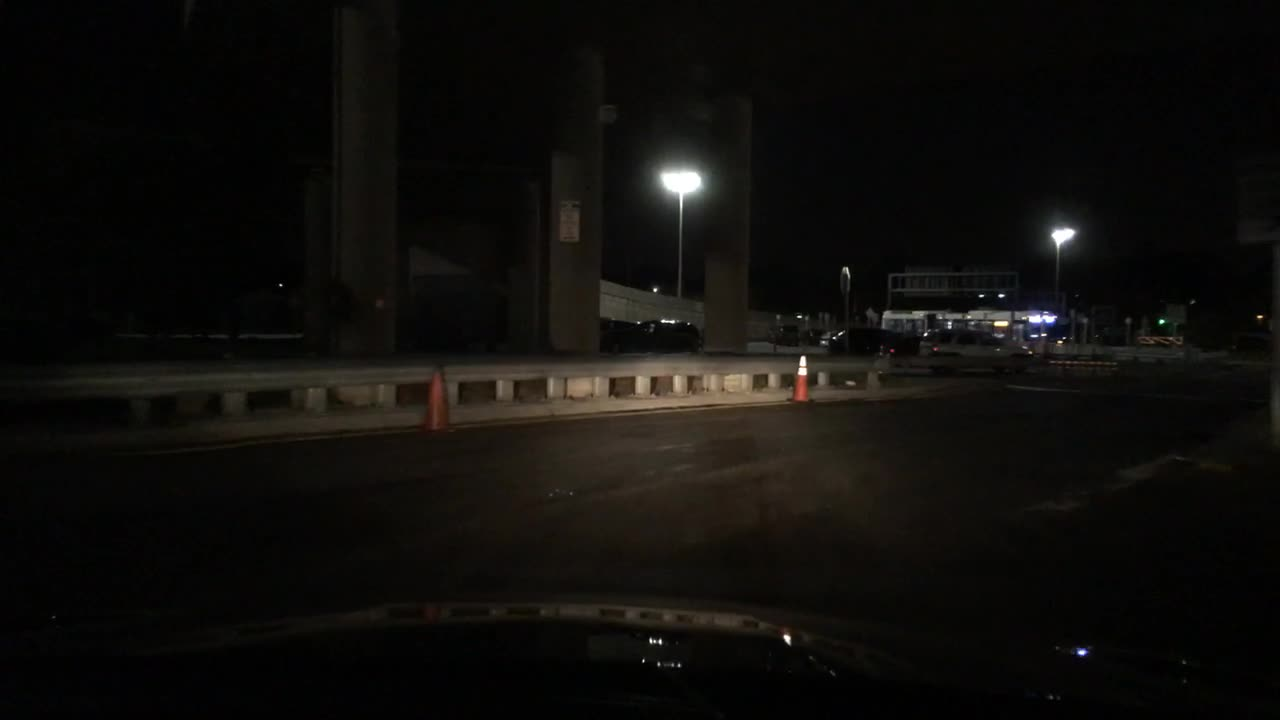car: (925, 326, 1035, 375), (595, 316, 703, 358), (821, 329, 913, 364), (763, 323, 822, 344)
traffic light: (1155, 318, 1165, 328)
traffic sign: (900, 263, 948, 300), (958, 268, 1015, 296)
